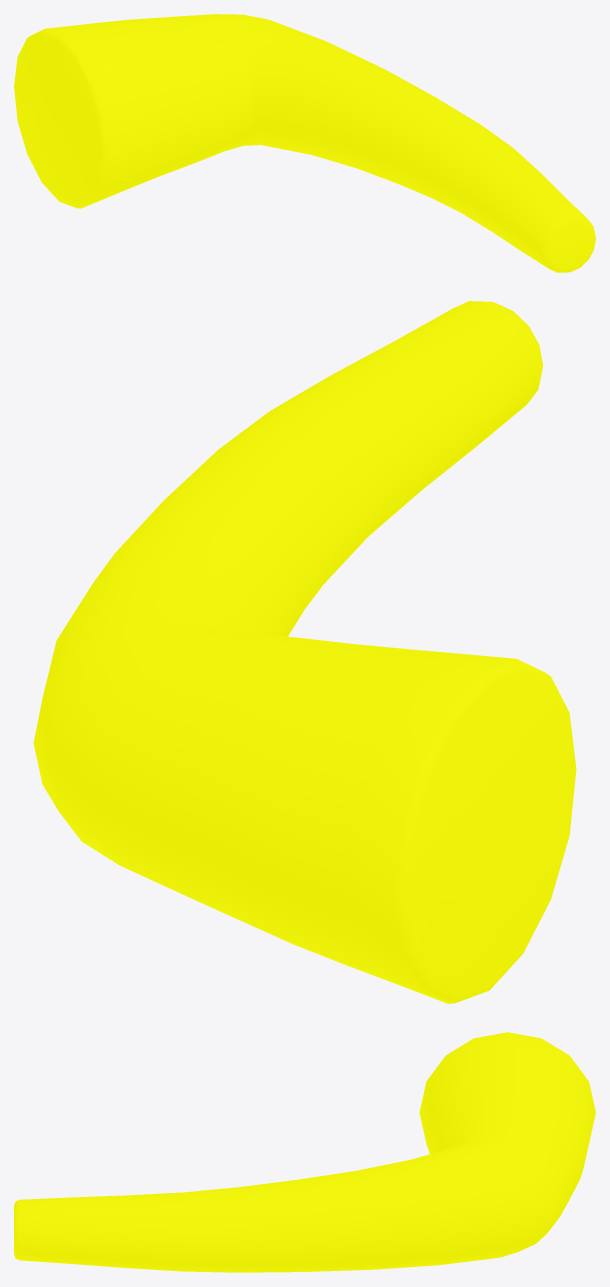
The model's file is Türgriff.fbx.
The picture shows the model from 3 angles, top to bottom: view 1: azimuth 30°, elevation 25°; view 2: azimuth 150°, elevation 25°; view 3: azimuth 270°, elevation 25°; orthographic projection. The views are drawn at different scales.
Visible parts, largest first — view 1: Türgriff; view 2: Türgriff; view 3: Türgriff.
Boxes of the visible parts, x1=… form: Türgriff: x1=14, y1=14, x2=595, y2=272; Türgriff: x1=33, y1=301, x2=576, y2=1003; Türgriff: x1=14, y1=1032, x2=595, y2=1272.
Size of the model in its own units: 5.84 by 3.14 by 10.36.
